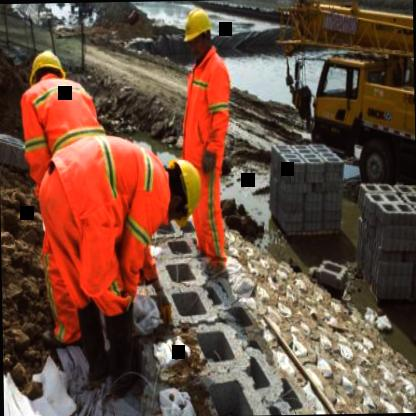helmet: (154, 156, 204, 230), (181, 3, 215, 62), (27, 48, 68, 94)
